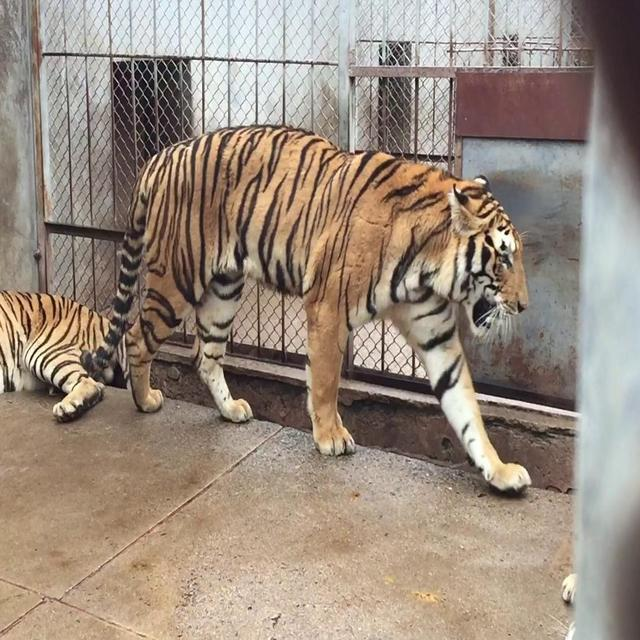tiger: (95, 116, 548, 500), (2, 268, 128, 450)
